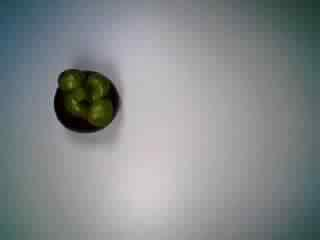mangosteen: (49, 65, 123, 137)
